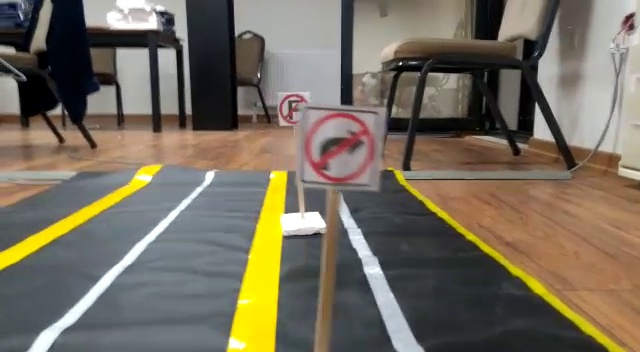park_yapilmaz: (276, 90, 303, 124)
saga_donulmez: (304, 107, 373, 185)
